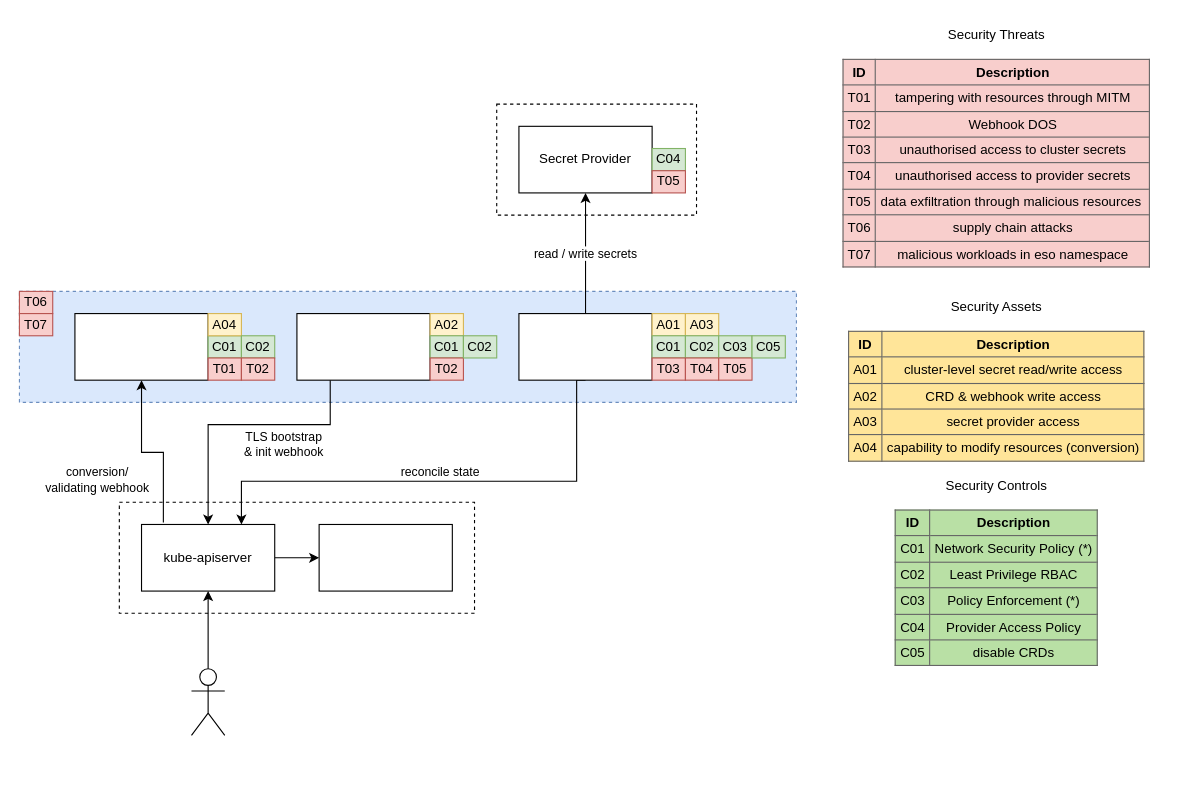
The diagram is 1182 pixels wide and 794 high, and some of its shapes have lost their labels. The centre of each missing label's shape, as x and y in pixels:
cert-controller: the point at 363,346
core controller: the point at 585,346
Developer/ Admin: the point at 207,701
etcd: the point at 385,557
webhook: the point at 141,346
